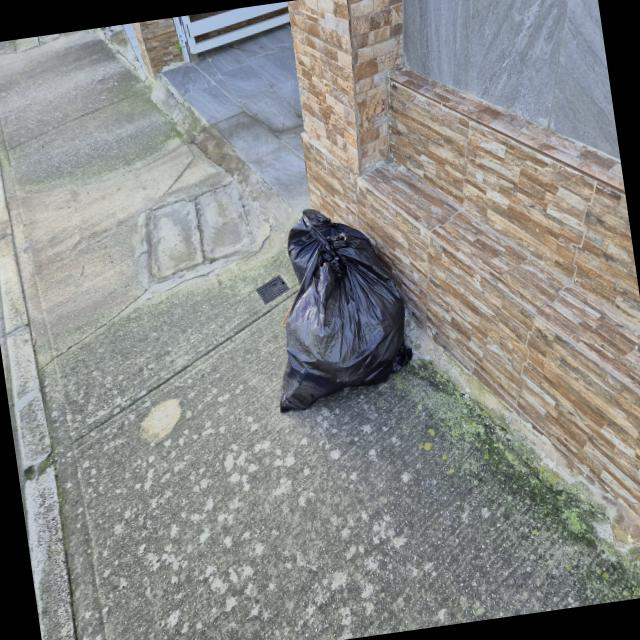black_bag: (247, 183, 421, 417)
